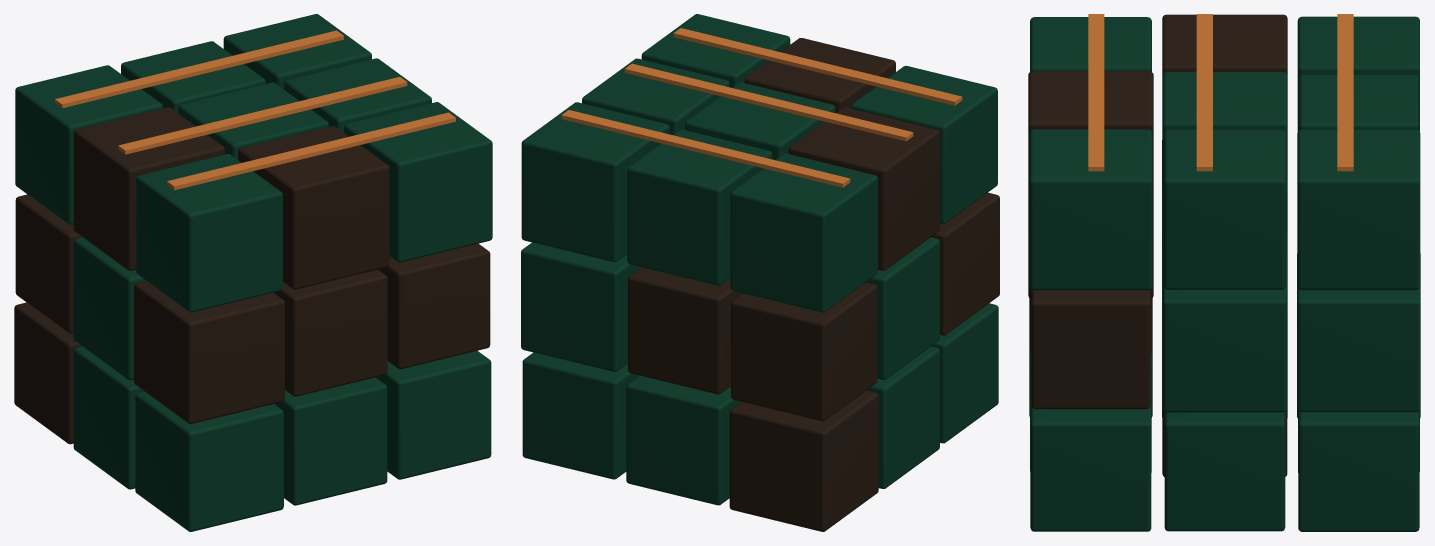
File: crumble.glb
The picture shows the model from 3 angles, left to right: view 1: azimuth 30°, elevation 25°; view 2: azimuth 150°, elevation 25°; view 3: azimuth 270°, elevation 25°; orthographic projection. The views are drawn at different scales.
Parts seen in each view (by area): view 1: crumble; view 2: crumble; view 3: crumble.
Boxes of the visible parts, x1=… form: crumble: x1=14, y1=14, x2=492, y2=531; crumble: x1=521, y1=14, x2=999, y2=531; crumble: x1=1028, y1=14, x2=1420, y2=531.
Size of the model in its own units: 0.9777 by 0.9955 by 0.9769.
